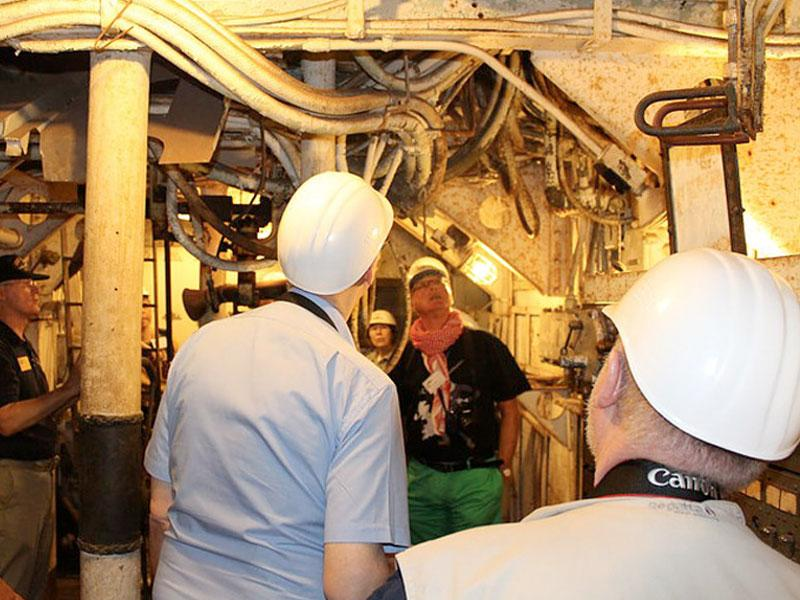helmet: (599, 253, 800, 464), (276, 171, 398, 295), (408, 255, 449, 286), (369, 307, 398, 329)
